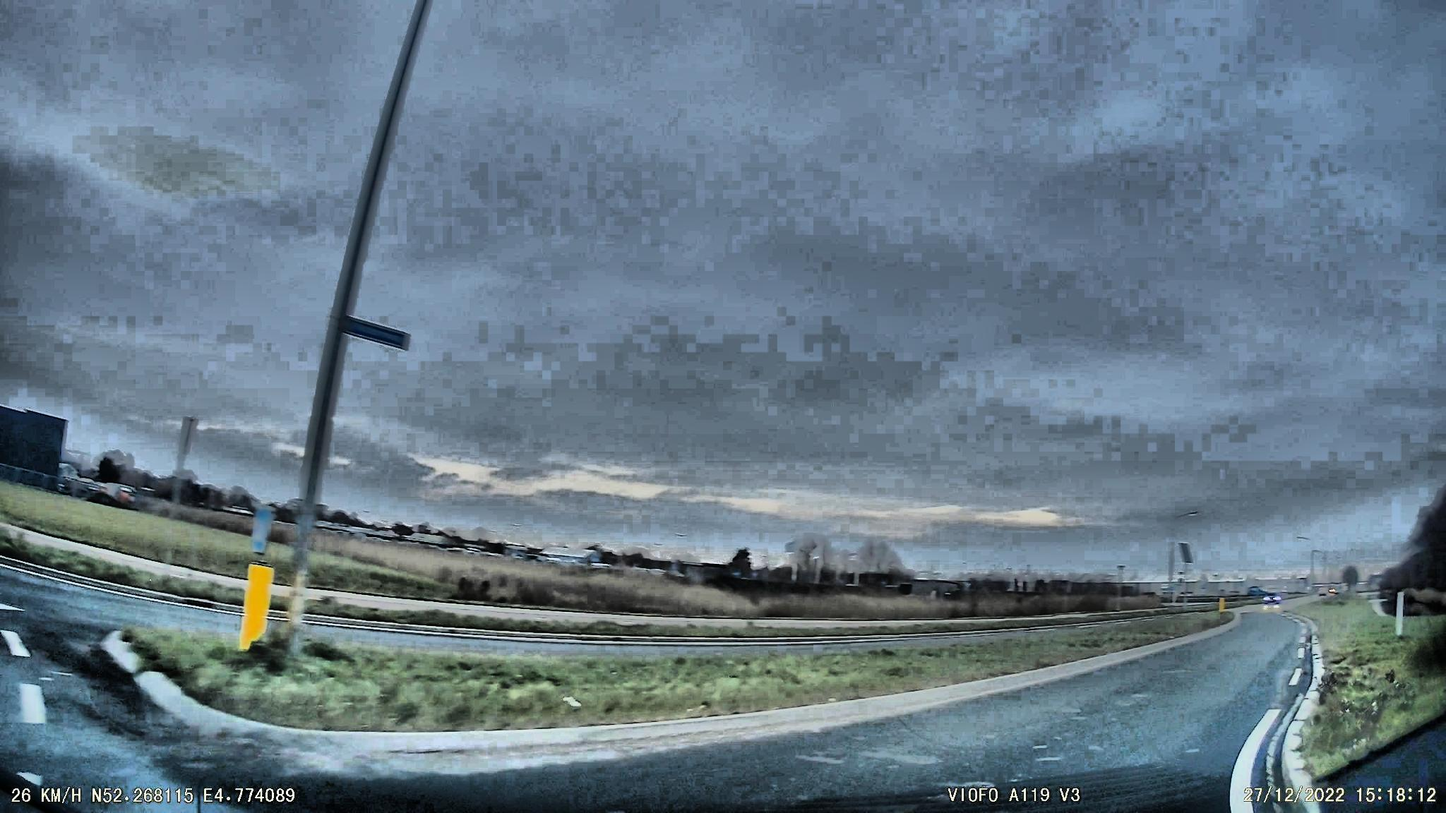Roads: (0, 604, 1322, 813)
